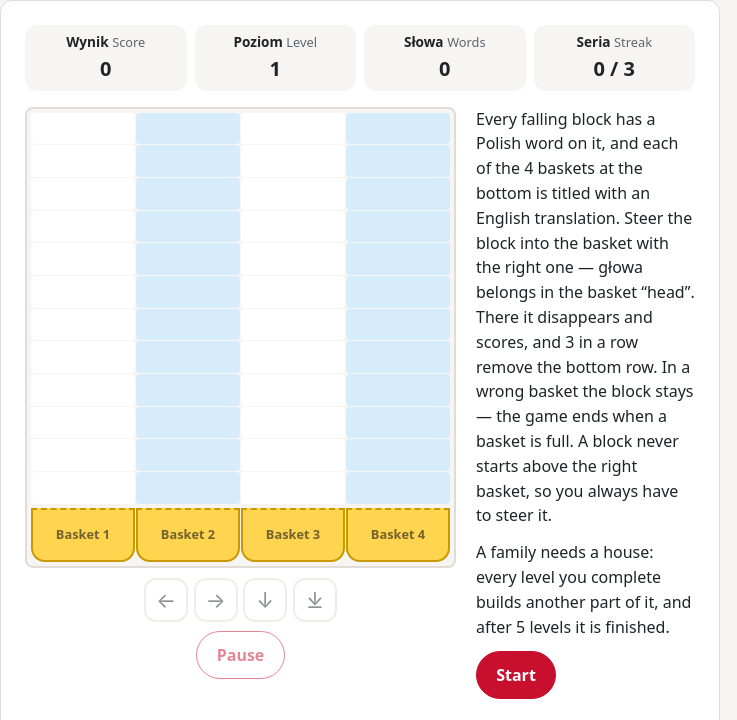
Tetris › freezes the game and hides the word and the basket titles while it is paused
The width and height of the screenshot is (737, 720).
Step 1. Click the button "Start" → point(516, 675), box [476, 651, 556, 699]
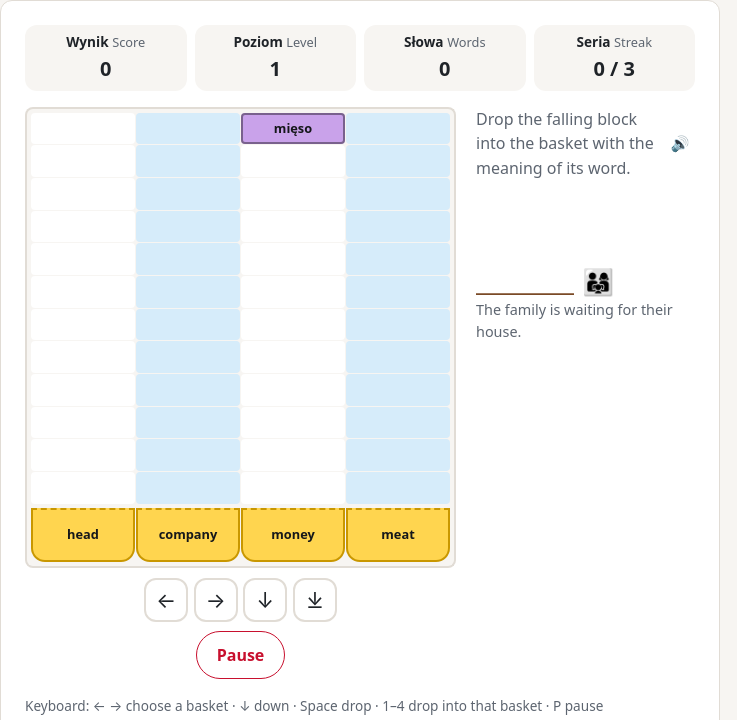
Step 2. Click the button "Pause" → point(240, 655), box [196, 631, 284, 679]
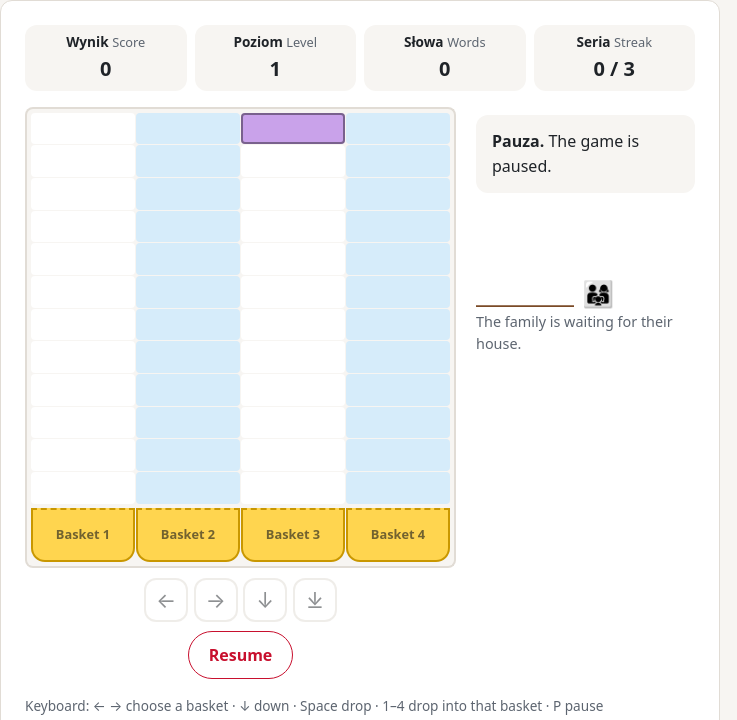
Step 3. Type keys "{ArrowDown}1"
Expected: the text "mięso" is not shown
Result: the text "Pauza." is shown at [492, 130, 544, 152]
Step 4. Click the button "Resume" → point(240, 655), box [188, 631, 292, 679]
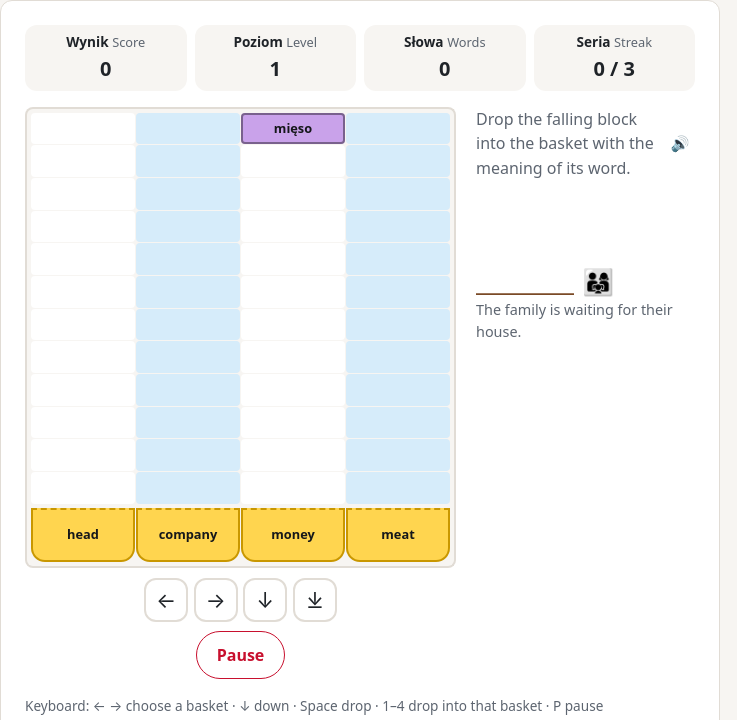
Step 5. Press Arrowdown
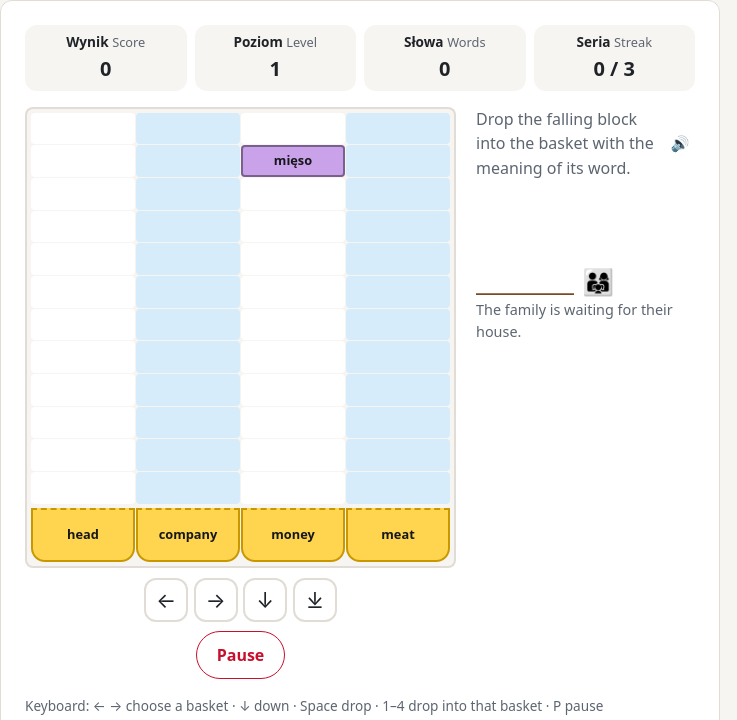
Result: the text with class "tetris__slot" reads "mięso" at [274, 151, 312, 169]
